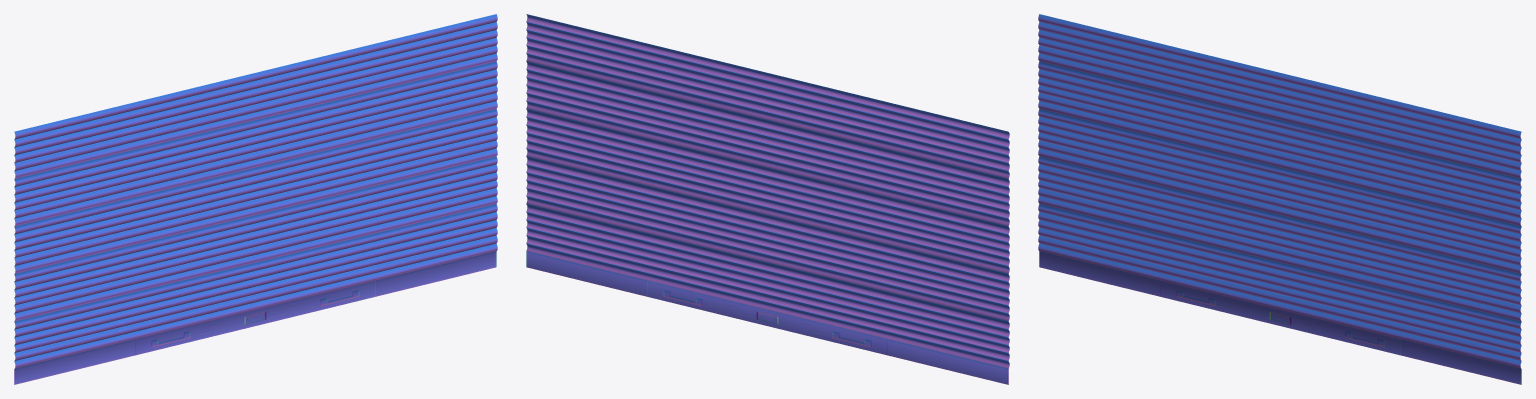
Rendered from SM_Fence1.4.FBX.
3 renders of one model, left to right at view 1: azimuth 30°, elevation 25°; view 2: azimuth 150°, elevation 25°; view 3: azimuth 330°, elevation 25°, orthographic.
Parts seen in each view (by area): view 1: Fence4; view 2: Fence4; view 3: Fence4.
Boxes of the visible parts, box(x1,y1,x2,y2) form: Fence4: box(14, 14, 497, 384); Fence4: box(526, 14, 1009, 384); Fence4: box(1038, 14, 1521, 384).
Size of the model in its own units: 6 by 3.01 by 0.0222.
